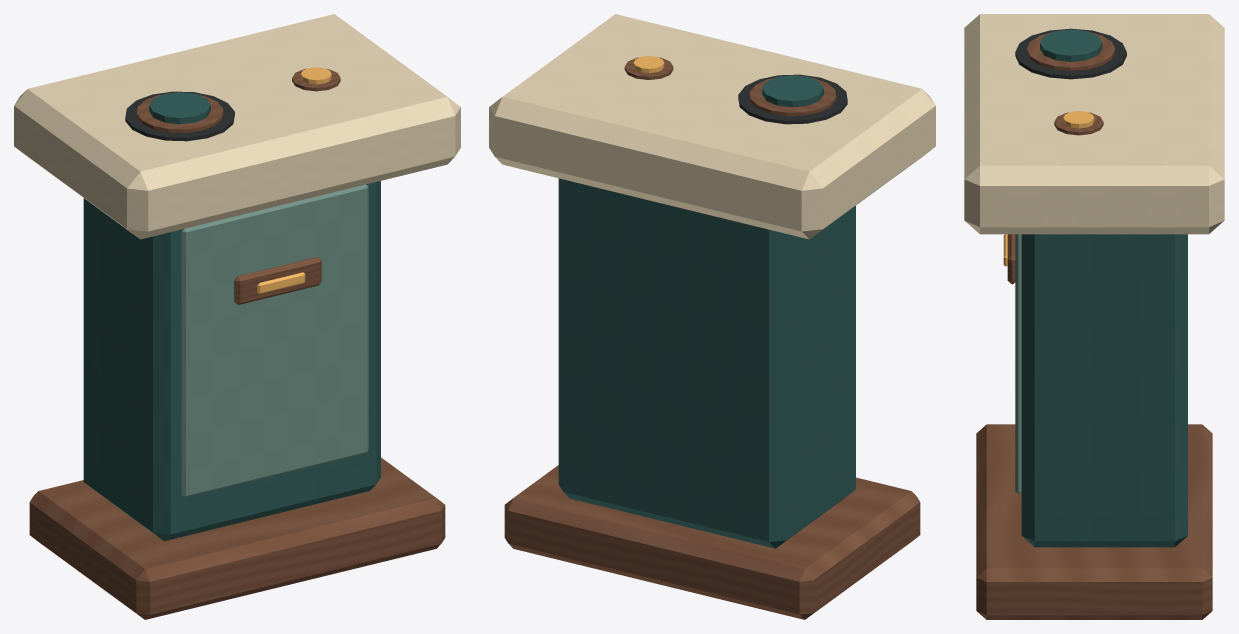
Rendered from I05_atlas_v1.glb.
3 renders of one model, left to right at view 1: azimuth 30°, elevation 25°; view 2: azimuth 150°, elevation 25°; view 3: azimuth 270°, elevation 25°, orthographic.
Parts seen in each view (by area): view 1: I05_StaticBody, I05_Dial_Knob; view 2: I05_StaticBody, I05_Dial_Knob; view 3: I05_StaticBody, I05_Dial_Knob, I05_Status_Insert.
Part boxes in pixels (left/top/right/bottom): I05_StaticBody: left=14, top=14, right=460, bottom=619; I05_Dial_Knob: left=149, top=92, right=210, bottom=124; I05_StaticBody: left=489, top=14, right=935, bottom=619; I05_Dial_Knob: left=762, top=75, right=823, bottom=107; I05_StaticBody: left=964, top=14, right=1224, bottom=619; I05_Dial_Knob: left=1040, top=29, right=1102, bottom=61; I05_Status_Insert: left=1063, top=111, right=1094, bottom=128.
Bounding box in the file's own units: 3 × 4 × 2.
1 material, 1 textured.
